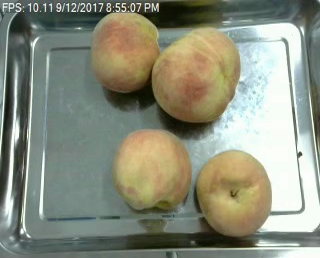Peach: (151, 26, 240, 122), (196, 149, 273, 238), (112, 128, 191, 210), (90, 10, 160, 93)
